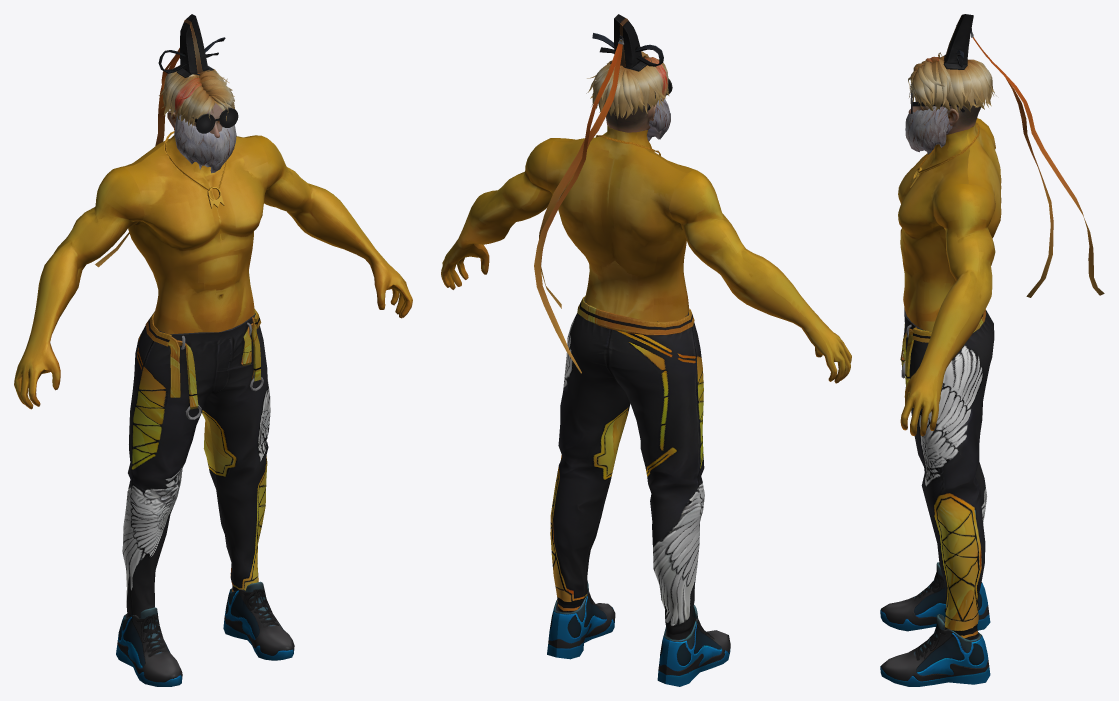
Rendered from new marou.glb.
3 views of the same model, side by side, from view 1: azimuth 30°, elevation 25°; view 2: azimuth 150°, elevation 25°; view 3: azimuth 270°, elevation 25° (orthographic). The views are drawn at different scales.
Visible parts, largest first — view 1: new marou; view 2: new marou; view 3: new marou.
Part boxes in pixels (x1=…): new marou: x1=14, y1=14, x2=412, y2=686; new marou: x1=441, y1=14, x2=851, y2=686; new marou: x1=880, y1=14, x2=1104, y2=686.
Size of the model in its own units: 0.6353 by 0.9774 by 0.3111.
8 materials, 8 textured.
